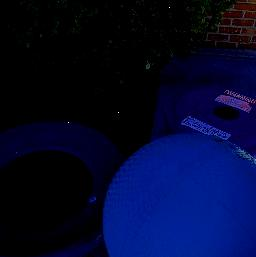algae: (104, 129, 256, 257)
